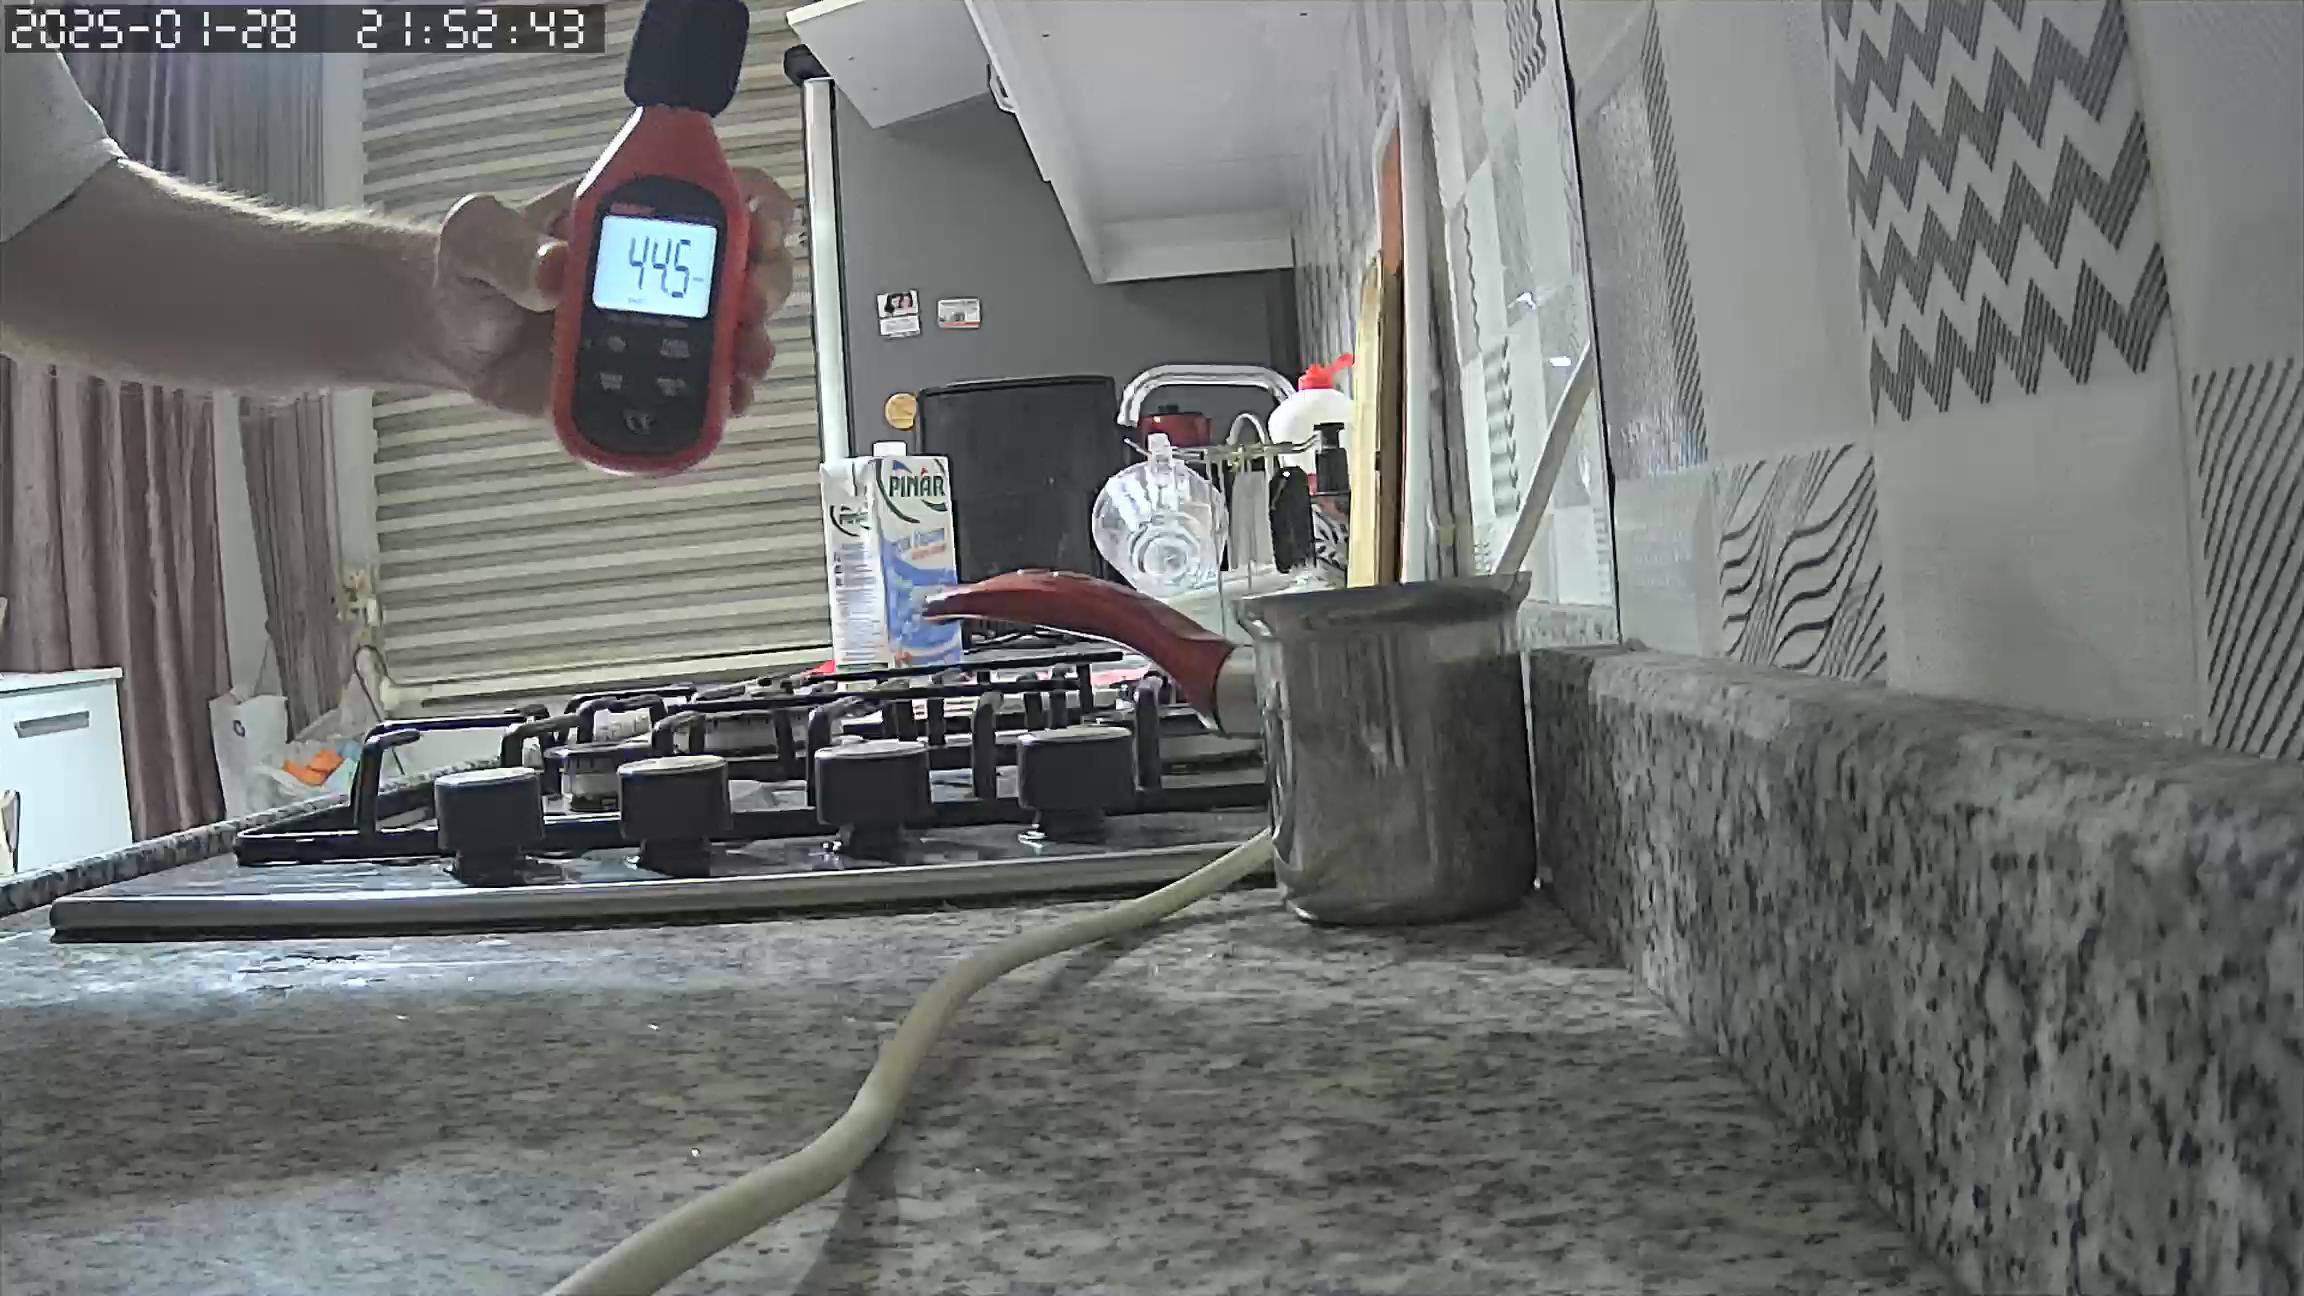screen: (593, 215, 718, 320)
